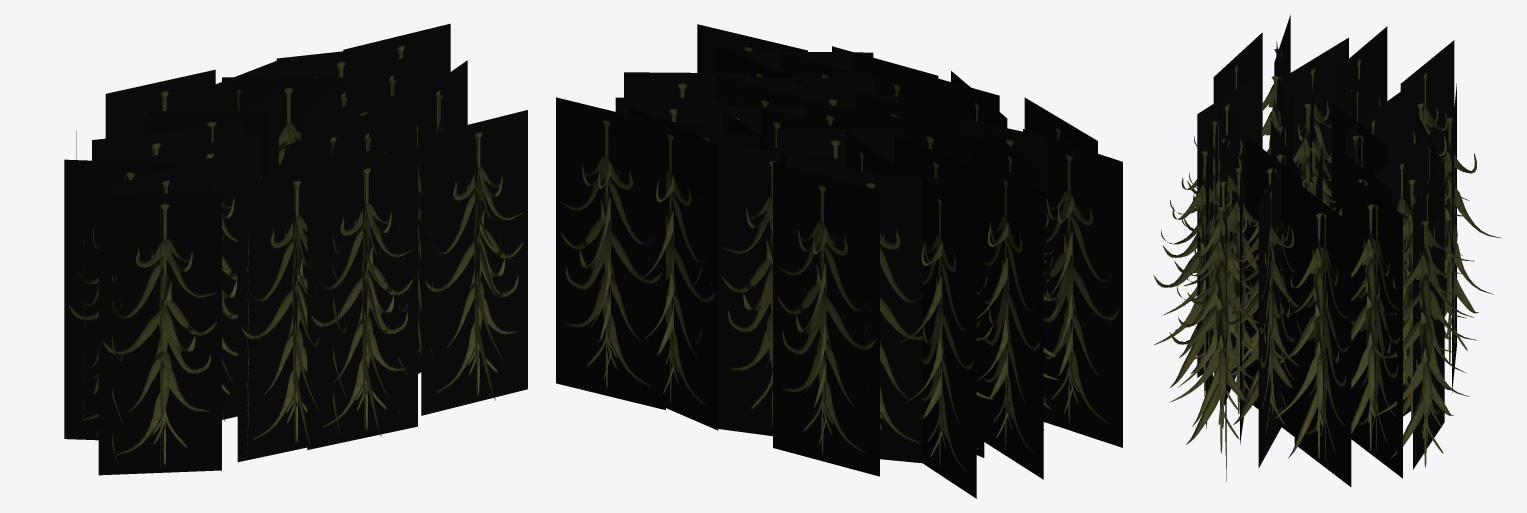
Rendered from cornevent.obj.
3 renders of one model, left to right at view 1: azimuth 30°, elevation 25°; view 2: azimuth 150°, elevation 25°; view 3: azimuth 270°, elevation 25°, orthographic. The views are drawn at different scales.
Visible parts, largest first — view 1: Plane.035_Plane.036, Plane.057_Plane.058, Plane.041_Plane.042, Plane.059_Plane.060, Plane.031_Plane.032, Plane.045_Plane.046, Plane.023_Plane.024, Plane.049_Plane.050, Plane.067_Plane.068, Plane.015_Plane.014, Plane.009_Plane.008, Plane.047_Plane.048 (+14 smaller); view 2: Plane.011_Plane.010, Plane.067_Plane.068, Plane.033_Plane.034, Plane.007_Plane.006, Plane.013_Plane.012, Plane.003_Plane.002, Plane.009_Plane.008, Plane.005_Plane.004, Plane.015_Plane.014, Plane.017_Plane.016, Plane.029_Plane.030, Plane.023_Plane.024 (+27 smaller); view 3: Plane.023_Plane.024, Plane.021_Plane.022, Plane.025_Plane.026, Plane.063_Plane.064, Plane.009_Plane.008, Plane.040_Plane.041, Plane.031_Plane.032, Plane.010_Plane.009, Plane.003_Plane.002, Plane.043_Plane.044, Plane.022_Plane.023, Plane.056_Plane.057 (+29 smaller).
Part boxes in pixels (x1,y1,x2,y2): Plane.035_Plane.036: (98,191,221,475); Plane.057_Plane.058: (307,147,417,449); Plane.041_Plane.042: (421,110,527,415); Plane.059_Plane.060: (237,159,348,462); Plane.031_Plane.032: (64,159,187,440); Plane.045_Plane.046: (151,132,260,419); Plane.023_Plane.024: (403,60,467,373); Plane.049_Plane.050: (222,77,345,164); Plane.067_Plane.068: (105,69,215,138); Plane.015_Plane.014: (92,126,211,162); Plane.009_Plane.008: (276,45,396,80); Plane.047_Plane.048: (145,111,268,177); Plane.011_Plane.010: (556,97,665,409); Plane.067_Plane.068: (773,162,879,476); Plane.033_Plane.034: (1023,129,1122,447); Plane.007_Plane.006: (717,142,838,436); Plane.013_Plane.012: (973,149,1043,479); Plane.003_Plane.002: (908,168,976,498); Plane.009_Plane.008: (629,106,718,430); Plane.005_Plane.004: (813,167,937,463); Plane.015_Plane.014: (894,134,984,457); Plane.017_Plane.016: (777,129,903,169); Plane.029_Plane.030: (957,118,1070,422); Plane.023_Plane.024: (624,72,750,98); Plane.023_Plane.024: (1294,181,1351,486); Plane.021_Plane.022: (1346,172,1402,478); Plane.025_Plane.026: (1245,136,1302,436); Plane.063_Plane.064: (1258,157,1285,467); Plane.009_Plane.008: (1413,159,1444,469); Plane.040_Plane.041: (1169,207,1272,453); Plane.031_Plane.032: (1282,37,1348,208); Plane.010_Plane.009: (1373,221,1476,467); Plane.003_Plane.002: (1400,40,1454,296); Plane.043_Plane.044: (1197,73,1261,377); Plane.022_Plane.023: (1274,213,1354,459); Plane.056_Plane.057: (1153,151,1253,397).
Bounding box in the file's own units: 8.44 × 4.7 × 5.84.
2 materials, 2 textured.
